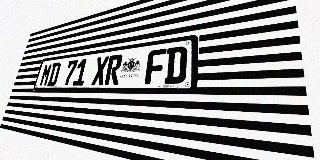1: (72, 58, 89, 86)
7: (62, 60, 78, 86)
D: (164, 46, 188, 84), (47, 62, 61, 86)
F: (145, 48, 167, 84)
M: (39, 63, 53, 86)
R: (104, 54, 123, 85)
X: (91, 56, 109, 85)
